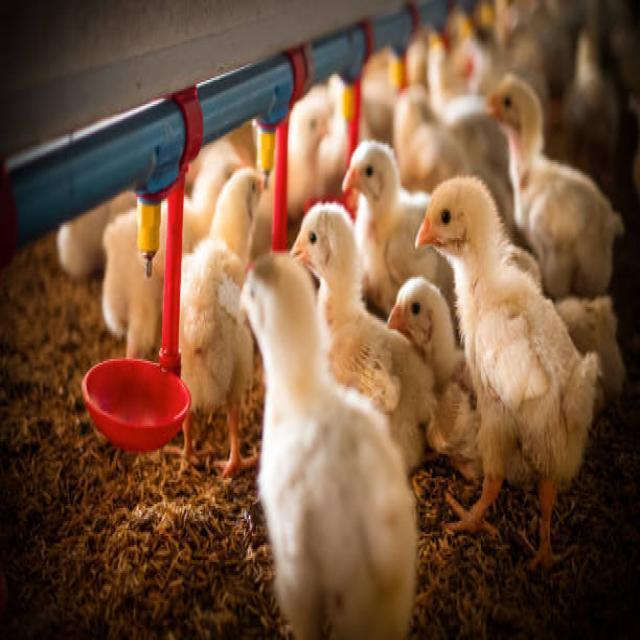Healthy: (407, 171, 605, 562), (278, 192, 439, 458)
